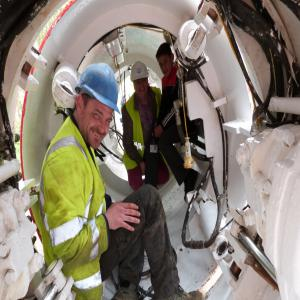blue: (74, 62, 121, 153)
none: (157, 43, 176, 80)
white: (131, 61, 150, 101)
